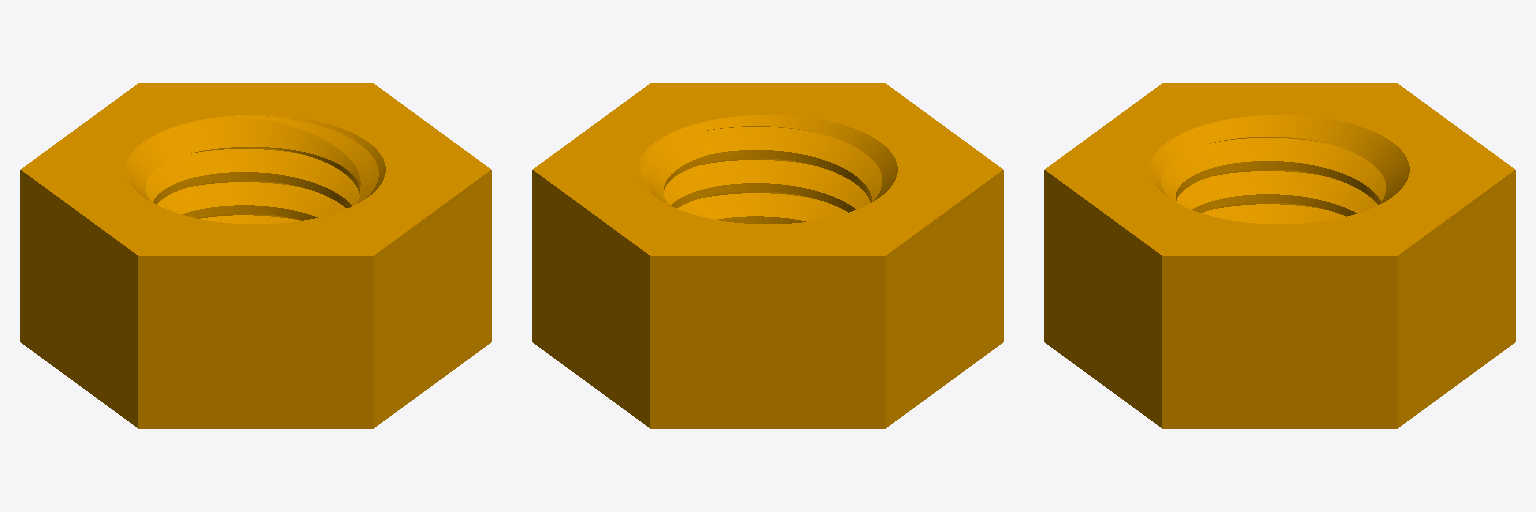
The robot description file, URDF, robot "nut5":
<?xml version="1.0"?>
<robot name="nut5">
    <link name="nut5">
        <visual>
            <geometry>
                <mesh filename="../mesh/nut/nut5.obj"/>
            </geometry>
        </visual>
        <collision>
            <geometry>
                <mesh filename="../mesh/nut/nut5.obj"/>
            </geometry>
            <sdf resolution="256"/>
        </collision>
    </link>
</robot>

--- What the picture shows (computed from the rendered views, not written in the file) ---
Views: 3 orthographic renders of the robot side by side, from view 1: azimuth 30°, elevation 25°; view 2: azimuth 150°, elevation 25°; view 3: azimuth 270°, elevation 25°.
Model nut5 with 1 links and 0 joints (none), rooted at nut5, posed every joint at zero.
Links seen in each view (by area): view 1: nut5; view 2: nut5; view 3: nut5.
Boxes of the visible links, left/top/right/bottom form: nut5: left=20, top=83, right=491, bottom=428; nut5: left=532, top=83, right=1003, bottom=428; nut5: left=1044, top=83, right=1515, bottom=428.
Size in the robot's own frame: 0.046 by 0.0531 by 0.0215 metres.
1 mesh visuals loaded from 1 distinct referenced files (1 OBJ).
